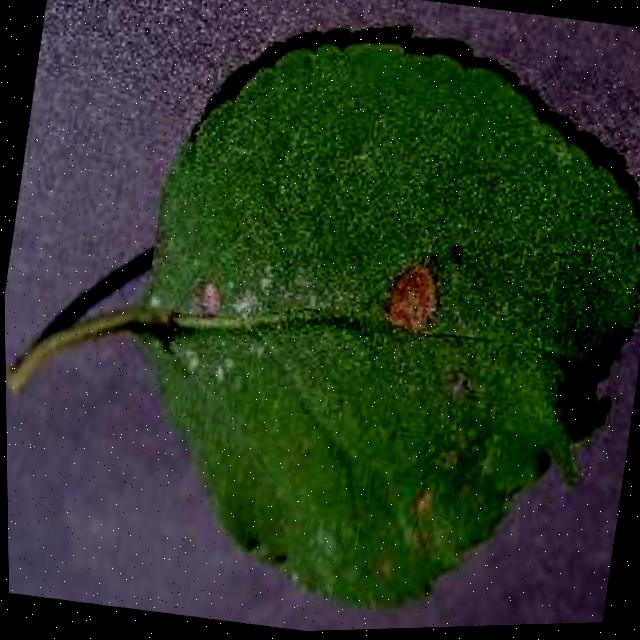black_rot: (369, 246, 459, 351), (392, 468, 448, 527), (190, 269, 237, 329)
